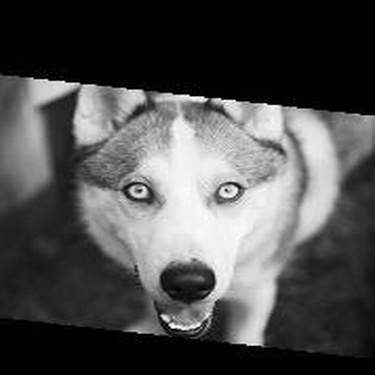dog: (65, 71, 372, 357)
